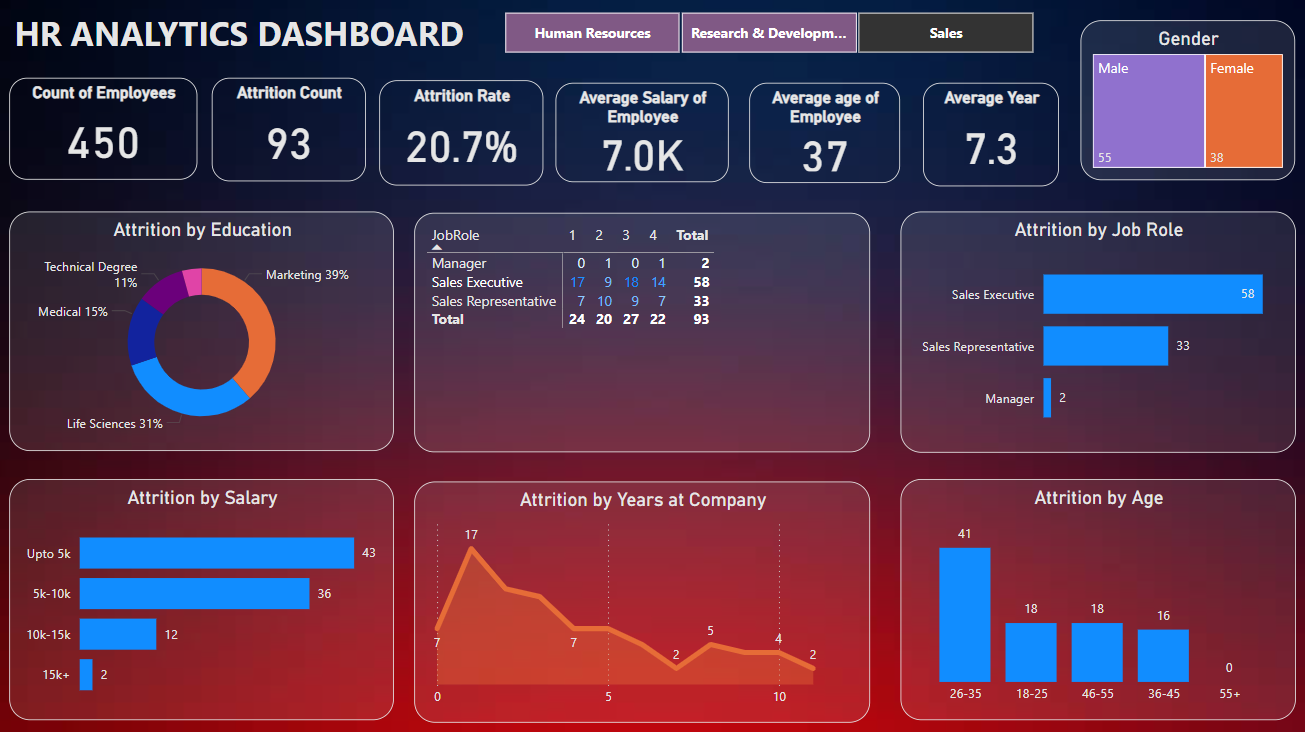

Layout of this report page (visuals, bound fields, positions):
{"tool":"powerbi","page":{"name":"Page 1","canvas":[1280,720],"ordinal":0},"visuals":[{"type":"card","title":"Count of Employees","fields":{"Values":["CountNonNull(HR_Analytics.EmpID)"]},"box":[15.7,81.4,181.4,98.6],"z":0},{"type":"card","title":"Attrition Count","fields":{"Values":["Sum(HR_Analytics.AttritionCount)"]},"box":[211.4,81.4,148.6,100],"z":1000},{"type":"card","title":"Attrition Rate","fields":{"Values":["HR_Analytics.AttritionRate"]},"box":[372.9,82.9,158.6,101.4],"z":2000},{"type":"card","title":"Average age of Employee","fields":{"Values":["Avg(HR_Analytics.Age)"]},"box":[730,85.7,145.7,97.1],"z":3000},{"type":"card","title":"Average Salary of Employee","fields":{"Values":["Avg(HR_Analytics.MonthlyIncome)"]},"box":[542.9,85.7,167.1,95.7],"z":4000},{"type":"card","title":"Average Year","fields":{"Values":["Avg(HR_Analytics.YearsAtCompany)"]},"box":[897.1,85.7,131.4,100],"z":5000},{"type":"donutChart","title":"Attrition by Education","fields":{"Category":["HR_Analytics.EducationField"],"Y":["Sum(HR_Analytics.AttritionCount)"]},"box":[15.7,210,371.4,231.4],"z":6000},{"type":"columnChart","title":"Attrition by Age","fields":{"Category":["HR_Analytics.AgeGroup"],"Y":["Sum(HR_Analytics.AttritionCount)"]},"box":[875.7,468.6,381.4,232.9],"z":7000},{"type":"pivotTable","title":"Job S","fields":{"Rows":["HR_Analytics.JobRole"],"Columns":["HR_Analytics.JobSatisfaction"],"Values":["Sum(HR_Analytics.AttritionCount)"]},"box":[407.1,211.4,440,231.4],"z":8000},{"type":"barChart","title":"Attrition by Salary","fields":{"Category":["HR_Analytics.SalarySlab"],"Y":["Sum(HR_Analytics.AttritionCount)"]},"box":[15.7,468.6,371.4,232.9],"z":9000},{"type":"barChart","title":"Attrition by Job Role","fields":{"Category":["HR_Analytics.JobRole"],"Y":["Sum(HR_Analytics.AttritionCount)"]},"box":[875.7,210,381.4,232.9],"z":10000},{"type":"areaChart","title":"Attrition by Years at Company","fields":{"Category":["HR_Analytics.YearsAtCompany"],"Y":["Sum(HR_Analytics.AttritionCount)"]},"box":[407.1,470,440,232.9],"z":11000},{"type":"treemap","title":"Gender","fields":{"Group":["HR_Analytics.Gender"],"Values":["Sum(HR_Analytics.AttritionCount)"]},"box":[1050,25.7,207.1,154.3],"z":12000},{"type":"slicer","fields":{"Values":["HR_Analytics.Department"]},"box":[468.6,11.4,560,52.9],"z":13000},{"type":"textbox","box":[15.7,11.4,452.9,52.9],"z":14000}]}

Visuals, with their boxes in screenshot pixels (x1, y1, x2, y2), scaled from the page's 1280x720 canvas onto the 1305x732 screenshot:
"Count of Employees" card: left=16, top=83, right=201, bottom=183
"Attrition Count" card: left=216, top=83, right=367, bottom=184
"Attrition Rate" card: left=380, top=84, right=542, bottom=187
"Average age of Employee" card: left=744, top=87, right=893, bottom=186
"Average Salary of Employee" card: left=554, top=87, right=724, bottom=184
"Average Year" card: left=915, top=87, right=1049, bottom=189
"Attrition by Education" donutChart: left=16, top=214, right=395, bottom=449
"Attrition by Age" columnChart: left=893, top=476, right=1282, bottom=713
"Job S" pivotTable: left=415, top=215, right=864, bottom=450
"Attrition by Salary" barChart: left=16, top=476, right=395, bottom=713
"Attrition by Job Role" barChart: left=893, top=214, right=1282, bottom=450
"Attrition by Years at Company" areaChart: left=415, top=478, right=864, bottom=715
"Gender" treemap: left=1071, top=26, right=1282, bottom=183
slicer - HR_Analytics.Department: left=478, top=12, right=1049, bottom=65
textbox: left=16, top=12, right=478, bottom=65
